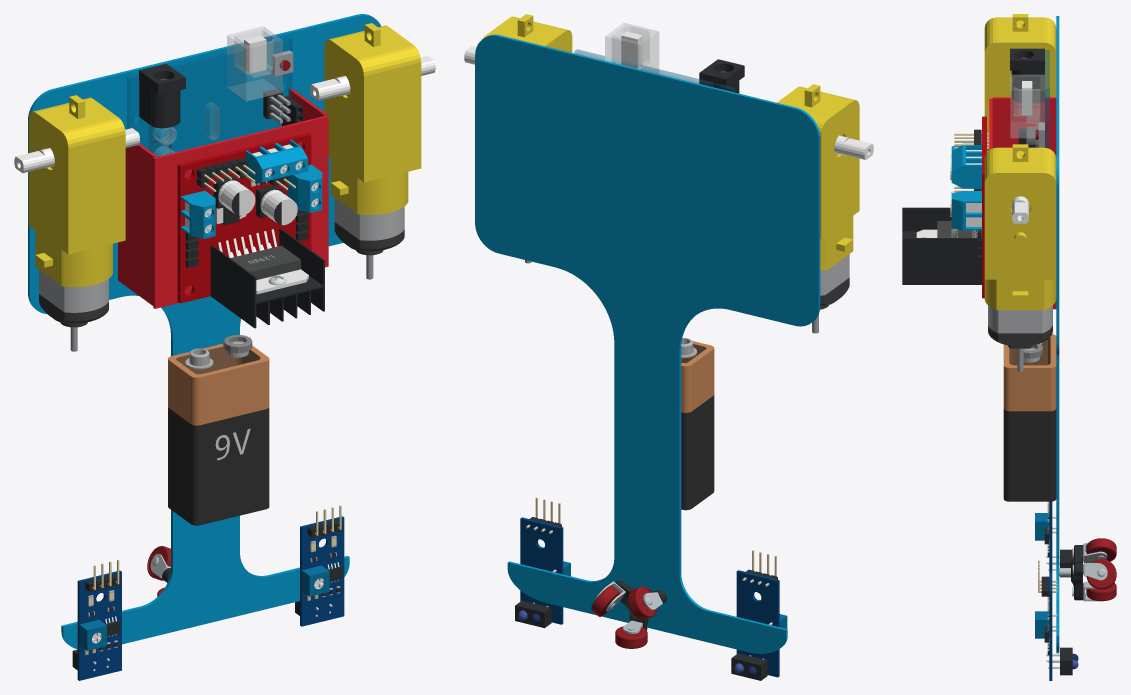
Rendered from chassis.obj.
3 renders of one model, left to right at view 1: azimuth 30°, elevation 25°; view 2: azimuth 150°, elevation 25°; view 3: azimuth 270°, elevation 25°, orthographic. The views are drawn at different scales.
Visible parts, largest first — view 1: obj_0, obj_3, obj_12, obj_2, obj_1, obj_4, obj_7, obj_8, obj_9, obj_6, obj_11; view 2: obj_0, obj_12, obj_1, obj_8, obj_9, obj_4, obj_11, obj_2; view 3: obj_2, obj_3, obj_1, obj_12, obj_4, obj_11, obj_0, obj_6, obj_9, obj_8.
Boxes of the visible parts, x1=… form: obj_0: x1=28, y1=14, x2=381, y2=649; obj_3: x1=177, y1=132, x2=324, y2=328; obj_12: x1=14, y1=95, x2=139, y2=351; obj_2: x1=310, y1=23, x2=435, y2=279; obj_1: x1=168, y1=335, x2=269, y2=525; obj_4: x1=127, y1=26, x2=302, y2=289; obj_7: x1=153, y1=115, x2=328, y2=308; obj_8: x1=72, y1=559, x2=121, y2=680; obj_9: x1=295, y1=505, x2=344, y2=626; obj_6: x1=118, y1=144, x2=156, y2=305; obj_11: x1=147, y1=546, x2=170, y2=596; obj_0: x1=475, y1=34, x2=820, y2=653; obj_12: x1=777, y1=84, x2=873, y2=333; obj_1: x1=681, y1=338, x2=714, y2=510; obj_8: x1=731, y1=550, x2=787, y2=680; obj_9: x1=515, y1=497, x2=570, y2=628; obj_4: x1=574, y1=23, x2=744, y2=93; obj_11: x1=591, y1=580, x2=666, y2=648; obj_2: x1=464, y1=14, x2=572, y2=263; obj_2: x1=984, y1=144, x2=1056, y2=372; obj_3: x1=902, y1=116, x2=989, y2=298; obj_1: x1=1003, y1=334, x2=1056, y2=501; obj_12: x1=984, y1=14, x2=1056, y2=150; obj_4: x1=1010, y1=48, x2=1049, y2=148; obj_11: x1=1059, y1=538, x2=1116, y2=601; obj_0: x1=1056, y1=16, x2=1059, y2=653; obj_6: x1=992, y1=97, x2=1056, y2=157; obj_9: x1=1035, y1=560, x2=1078, y2=680; obj_8: x1=1035, y1=501, x2=1073, y2=577.
Size of the model in its own units: 135 by 192 by 67.4.
